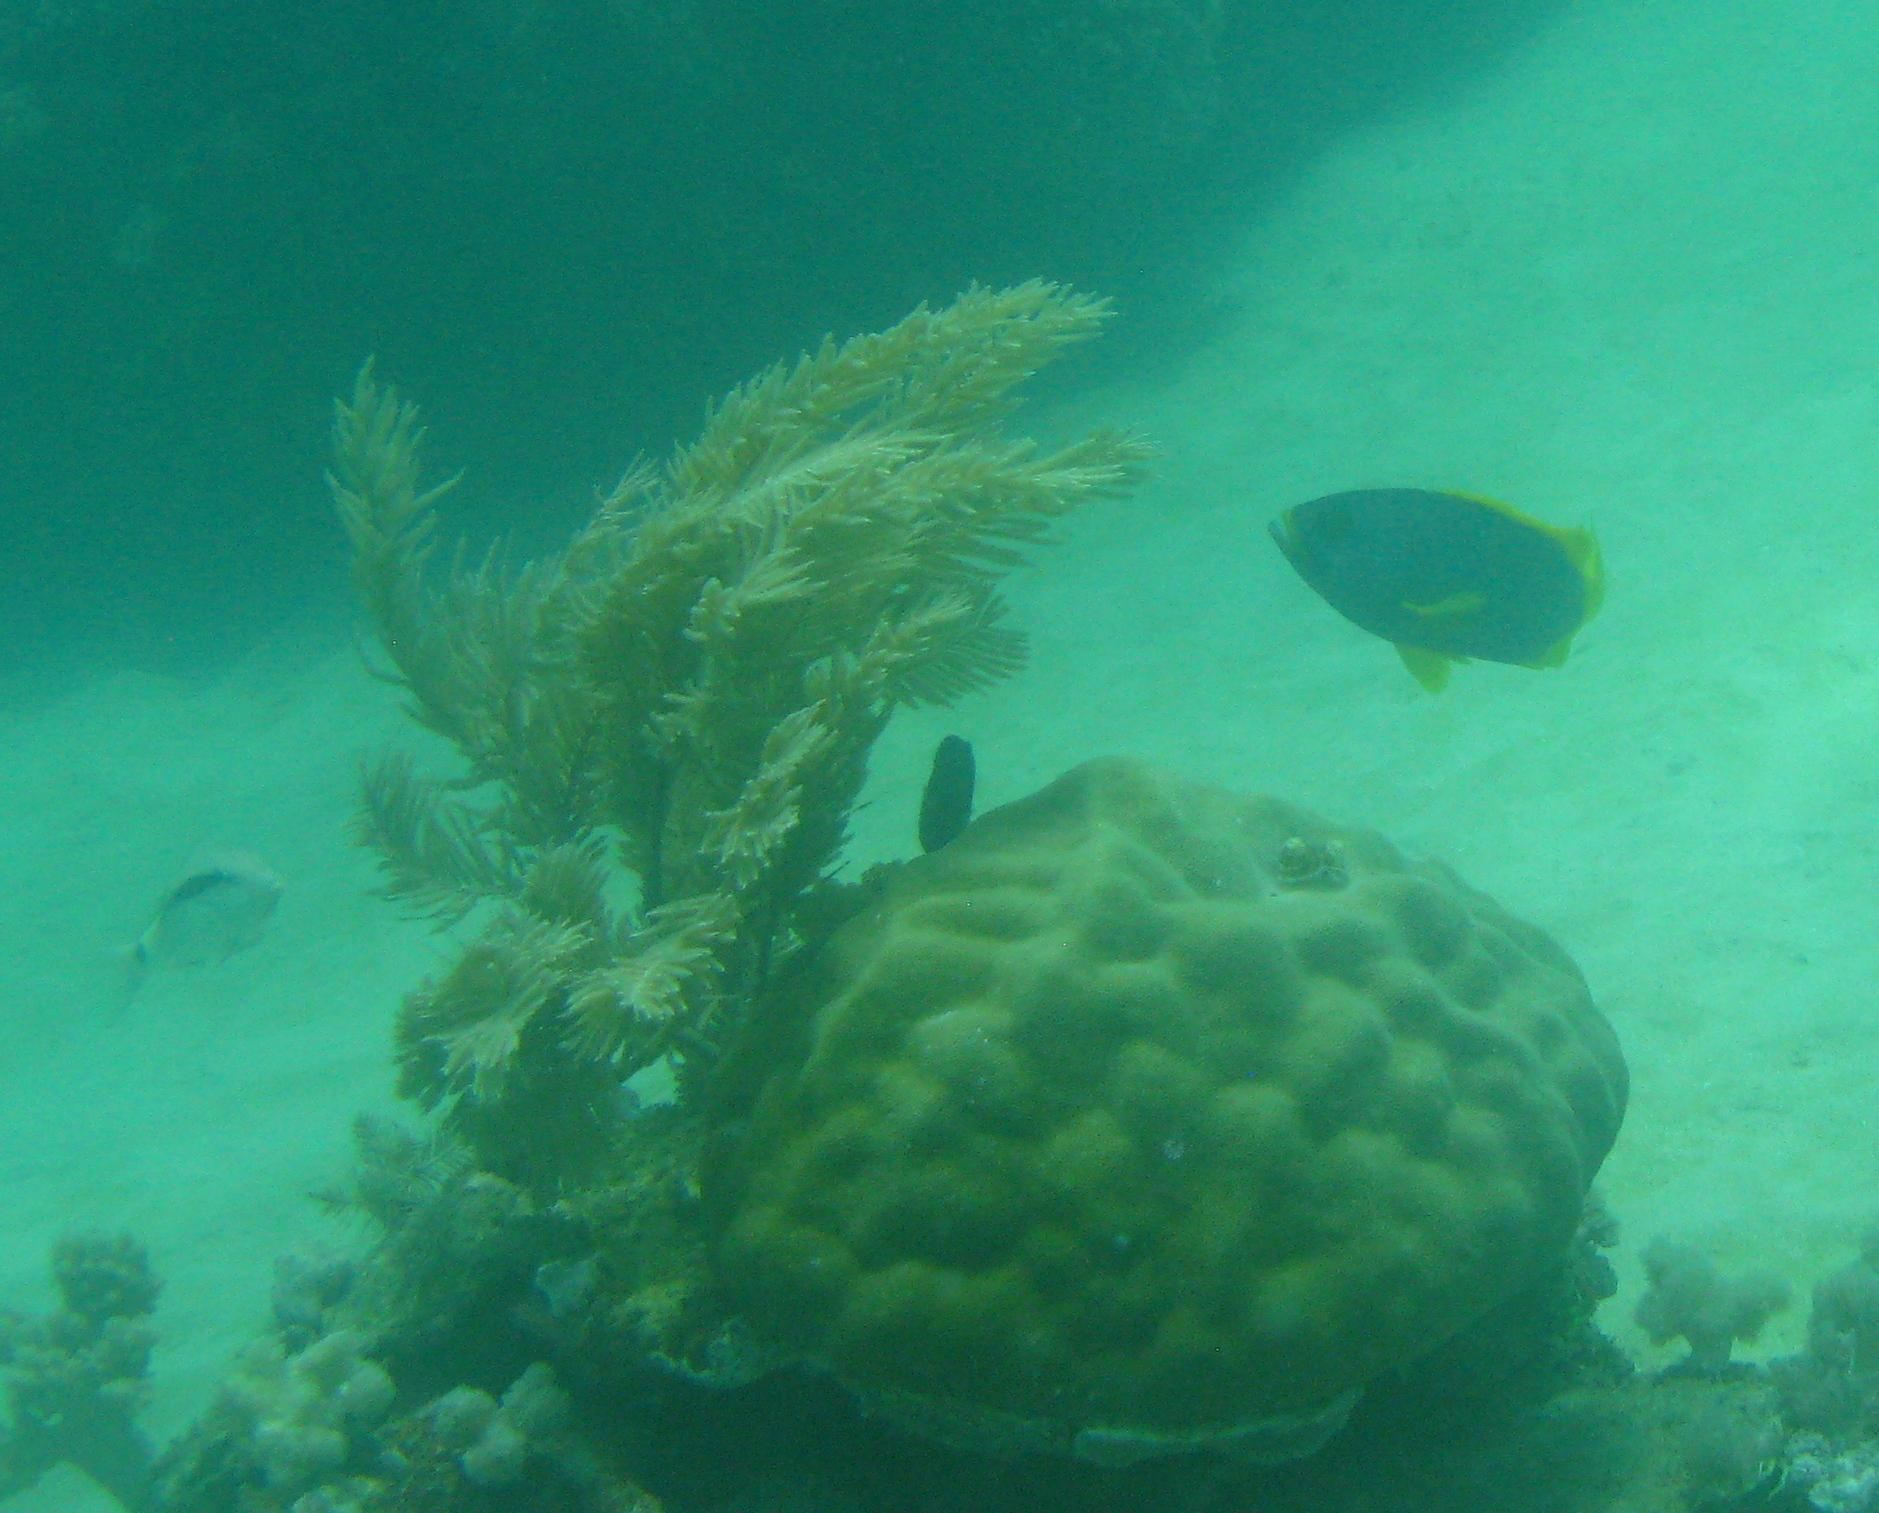Fish: (1235, 417, 1712, 738)
